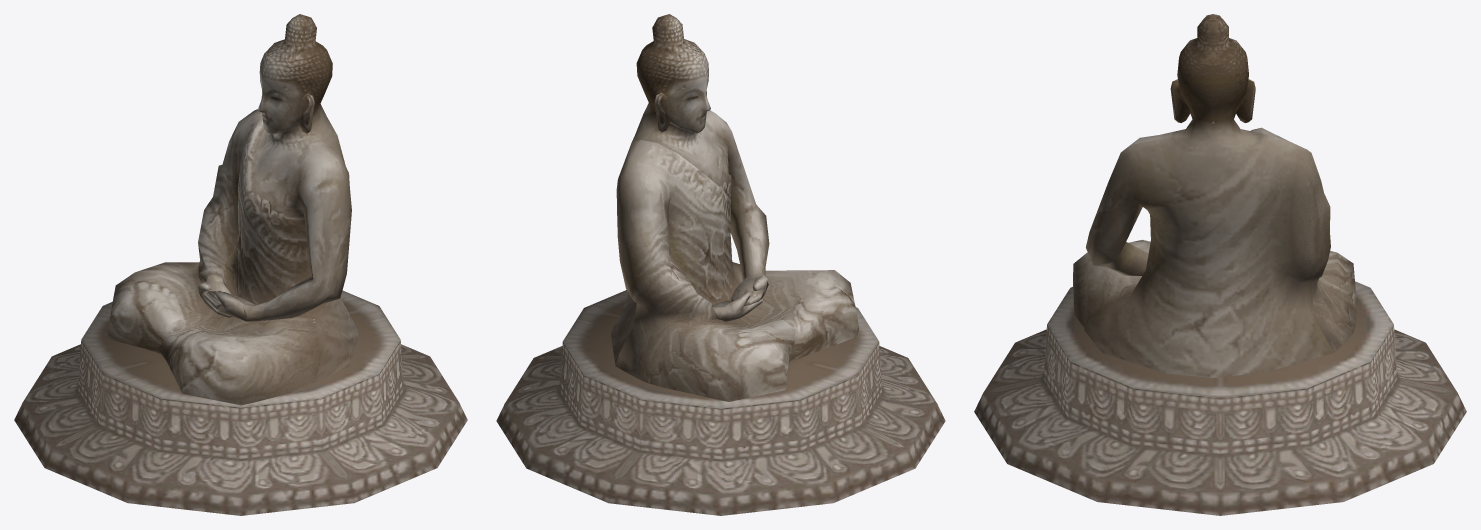
File: Hangzhou_wj_062.FBX
The picture shows the model from 3 angles, left to right: view 1: azimuth 30°, elevation 25°; view 2: azimuth 150°, elevation 25°; view 3: azimuth 270°, elevation 25°; orthographic projection. The views are drawn at different scales.
Parts seen in each view (by area): view 1: Prefabs_5005_Item_007_003_NanFang001; view 2: Prefabs_5005_Item_007_003_NanFang001; view 3: Prefabs_5005_Item_007_003_NanFang001.
Part boxes in pixels (x1,y1,x2,y2): Prefabs_5005_Item_007_003_NanFang001: [14, 14, 467, 515]; Prefabs_5005_Item_007_003_NanFang001: [496, 14, 945, 515]; Prefabs_5005_Item_007_003_NanFang001: [974, 14, 1466, 515].
Size of the model in its own units: 72.46 by 69.33 by 72.46.
